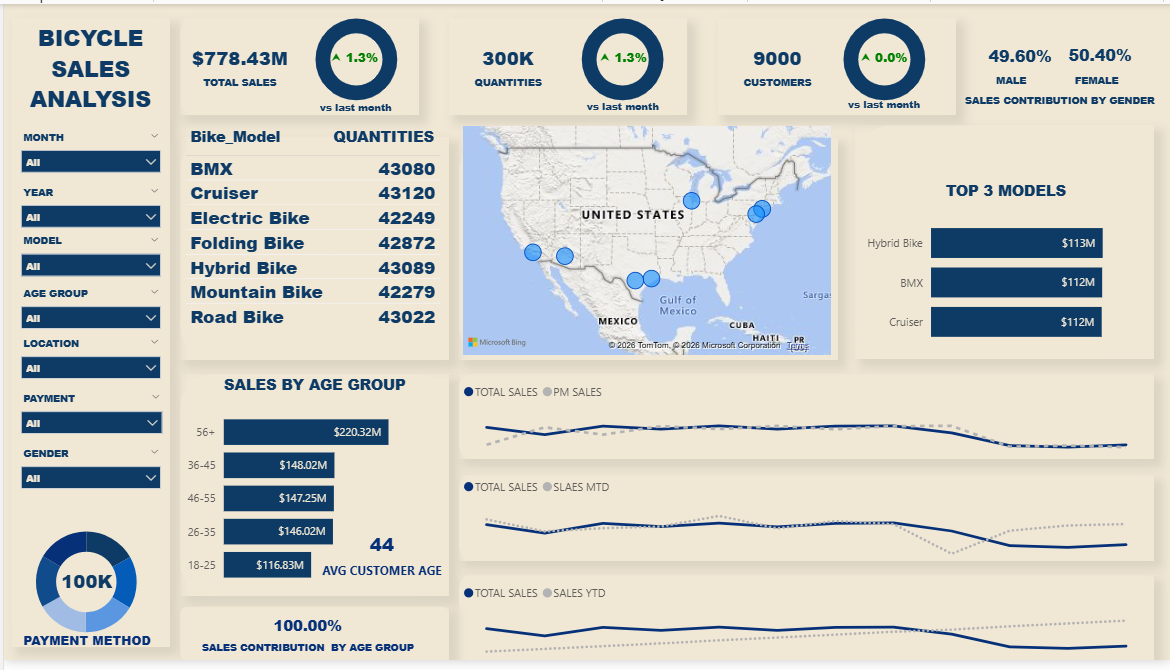

The dashboard page shown, as its layout file describes it:
{"tool":"powerbi","page":{"name":"DASHBOARD","canvas":[1280,720],"ordinal":0},"visuals":[{"type":"shape","box":[91.7,190.6,480.2,335.4],"z":0},{"type":"shape","box":[91.7,72.4,184.6,108.6],"z":1000},{"type":"shape","box":[284.7,72.4,176.1,108.6],"z":2000},{"type":"shape","box":[470.5,72.4,168.9,108.6],"z":3000},{"type":"shape","box":[651.5,72.4,156.8,108.6],"z":4000},{"type":"shape","box":[818,72.4,156.8,108.6],"z":5000},{"type":"shape","box":[983.2,72.4,139.9,108.6],"z":6000},{"type":"shape","box":[1131.6,72.4,139.9,108.6],"z":7000},{"type":"shape","box":[580.3,191.8,346.2,189.4],"z":8000},{"type":"shape","box":[935,191.8,336.6,189.4],"z":9000},{"type":"shape","box":[580.3,389.7,111,136.3],"z":10000},{"type":"shape","box":[698.5,389.7,111,136.3],"z":11000},{"type":"shape","box":[815.6,389.7,111,136.3],"z":12000},{"type":"shape","box":[935,389.7,336.6,136.3],"z":13000},{"type":"shape","box":[962.7,534.5,308.8,177.3],"z":14000},{"type":"shape","box":[614.1,534.5,340.2,177.3],"z":15000},{"type":"shape","box":[348.7,534.5,257,177.3],"z":16000},{"type":"shape","box":[91.7,534.5,248.5,177.3],"z":17000},{"type":"filledMap","title":"REVENUE BY COUNTRY","fields":{"Category":["DATA.country"]},"box":[91.7,191.8,480.2,334.2],"z":18000},{"type":"card","fields":{"Values":["MEASURE.TOTAL REVENUE"]},"box":[91.7,72.4,184.6,108.6],"z":19000},{"type":"card","fields":{"Values":["MEASURE.UNITS SOLD"]},"box":[284.7,72.4,176.1,108.6],"z":20000},{"type":"card","fields":{"Values":["MEASURE.TOTAL ORDERS"]},"box":[470.5,72.4,168.9,108.6],"z":21000},{"type":"card","fields":{"Values":["MEASURE.AVERAGE SELLING PRICE"]},"box":[651.5,72.4,156.8,108.6],"z":22000},{"type":"card","fields":{"Values":["MEASURE.AVG DISCOUNT"]},"box":[818,72.4,156.8,108.6],"z":23000},{"type":"card","fields":{"Values":["MEASURE.REVENUE PER UNIT"]},"box":[983.2,72.4,139.9,108.6],"z":24000},{"type":"card","fields":{"Values":["MEASURE.DIS AMT"]},"box":[1131.6,72.4,139.9,108.6],"z":25000},{"type":"areaChart","title":"MONTHLY REVENUE","fields":{"Category":["DimDate.MonthShort"],"Y":["MEASURE.TOTAL REVENUE"]},"box":[580.3,191.8,346.2,189.4],"z":26000},{"type":"textbox","box":[0,20.5,372.8,42.2],"z":27000},{"type":"donutChart","title":"TOP 3 BRANDS","fields":{"Category":["DATA.brand"],"Y":["MEASURE.TOTAL REVENUE"]},"box":[935,191.8,336.6,189.4],"z":28000},{"type":"gauge","fields":{"Y":["MEASURE.REVENUE CONTRIBUTION BY GERDER"]},"box":[580.3,389.7,111,136.3],"z":29000},{"type":"gauge","title":"REVENUE CONTRIBUTION BY CHANNEL","fields":{"Y":["MEASURE.CON BY CHANNEL"]},"box":[698.5,389.7,109.8,136.3],"z":30000},{"type":"gauge","title":"REVENUE CONTRIBUTION BY PAYMENT","fields":{"Y":["MEASURE.BY PAYMENT"]},"box":[815.6,389.7,111,136.3],"z":31000},{"type":"clusteredBarChart","title":"TOP 3 CATEGORY","fields":{"Category":["DATA.category"],"Y":["MEASURE.TOTAL REVENUE"]},"box":[935,389.7,336.6,136.3],"z":32000},{"type":"donutChart","title":"REVENUE BY COLOR","fields":{"Category":["DATA.color"],"Y":["MEASURE.TOTAL REVENUE"]},"box":[91.9,533.8,248.4,177],"z":33000},{"type":"donutChart","title":"TOP 3 FOOTWEAR SIZES","fields":{"Category":["DATA.size"],"Y":["MEASURE.TOTAL REVENUE"]},"box":[962.7,534.5,308.8,176.1],"z":34000},{"type":"treemap","title":"REVENUE BY CUSTOMER INCOME LEVEL","fields":{"Group":["DATA.customer_income_level"],"Values":["MEASURE.TOTAL REVENUE"]},"box":[348.7,533.2,257,177.3],"z":35000},{"type":"tableEx","title":"TOP 5 COUNTRIES","fields":{"Values":["DATA.country","MEASURE.TOTAL REVENUE","MEASURE.UNITS SOLD","MEASURE.AVG DISCOUNT"]},"box":[614.1,553.8,340.2,158],"z":36000},{"type":"slicer","fields":{"Values":["DimDate.Year"]},"box":[372.8,0,102.5,72.4],"z":37000},{"type":"slicer","fields":{"Values":["DimDate.MonthName"]},"box":[477.8,0,102.5,72.4],"z":38000},{"type":"slicer","fields":{"Values":["DimDate.DayName"]},"box":[583.9,0,102.5,72.4],"z":39000},{"type":"slicer","fields":{"Values":["DATA.country"]},"box":[691.3,0,102.5,72.4],"z":40000},{"type":"slicer","fields":{"Values":["DATA.brand"]},"box":[793.8,0,102.5,72.4],"z":41000},{"type":"slicer","fields":{"Values":["DATA.category"]},"box":[896.4,0,102.5,72.4],"z":42000},{"type":"slicer","fields":{"Values":["DATA.gender"]},"box":[0,72.4,91.7,108.6],"z":43000},{"type":"slicer","fields":{"Values":["DATA.payment_method"]},"box":[0,191.8,91.7,138.7],"z":44000},{"type":"slicer","fields":{"Values":["DATA.sales_channel"]},"box":[0,330.6,91.7,100.1],"z":45000},{"type":"gauge","title":"CUSTOMER RATING","fields":{"Y":["MEASURE.AVERAGE RATING"]},"box":[1074.9,0,196.6,72.4],"z":46000}]}

Visuals, with their boxes in screenshot pixels (x1, y1, x2, y2), scaled from the page's 1280x720 canvas onto the 1170x670 screenshot:
shape: (84,177,523,489)
shape: (84,67,253,168)
shape: (260,67,421,168)
shape: (430,67,584,168)
shape: (596,67,739,168)
shape: (748,67,891,168)
shape: (899,67,1027,168)
shape: (1034,67,1162,168)
shape: (530,178,847,355)
shape: (855,178,1162,355)
shape: (530,363,632,489)
shape: (638,363,740,489)
shape: (746,363,847,489)
shape: (855,363,1162,489)
shape: (880,497,1162,662)
shape: (561,497,872,662)
shape: (319,497,554,662)
shape: (84,497,311,662)
"REVENUE BY COUNTRY" filledMap: (84,178,523,489)
card - MEASURE.TOTAL REVENUE: (84,67,253,168)
card - MEASURE.UNITS SOLD: (260,67,421,168)
card - MEASURE.TOTAL ORDERS: (430,67,584,168)
card - MEASURE.AVERAGE SELLING PRICE: (596,67,739,168)
card - MEASURE.AVG DISCOUNT: (748,67,891,168)
card - MEASURE.REVENUE PER UNIT: (899,67,1027,168)
card - MEASURE.DIS AMT: (1034,67,1162,168)
"MONTHLY REVENUE" areaChart: (530,178,847,355)
textbox: (0,19,341,58)
"TOP 3 BRANDS" donutChart: (855,178,1162,355)
gauge - MEASURE.REVENUE CONTRIBUTION BY GERDER: (530,363,632,489)
"REVENUE CONTRIBUTION BY CHANNEL" gauge: (638,363,739,489)
"REVENUE CONTRIBUTION BY PAYMENT" gauge: (746,363,847,489)
"TOP 3 CATEGORY" clusteredBarChart: (855,363,1162,489)
"REVENUE BY COLOR" donutChart: (84,497,311,661)
"TOP 3 FOOTWEAR SIZES" donutChart: (880,497,1162,661)
"REVENUE BY CUSTOMER INCOME LEVEL" treemap: (319,496,554,661)
"TOP 5 COUNTRIES" tableEx: (561,515,872,662)
slicer - DimDate.Year: (341,0,434,67)
slicer - DimDate.MonthName: (437,0,530,67)
slicer - DimDate.DayName: (534,0,627,67)
slicer - DATA.country: (632,0,726,67)
slicer - DATA.brand: (726,0,819,67)
slicer - DATA.category: (819,0,913,67)
slicer - DATA.gender: (0,67,84,168)
slicer - DATA.payment_method: (0,178,84,308)
slicer - DATA.sales_channel: (0,308,84,401)
"CUSTOMER RATING" gauge: (983,0,1162,67)
